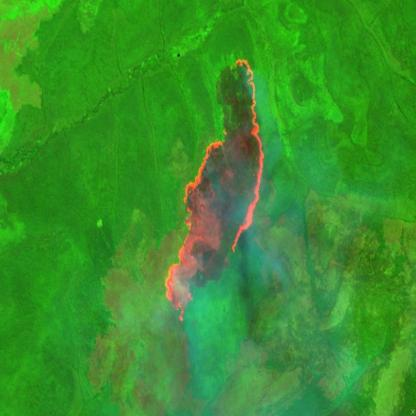fire: (164, 55, 266, 328)
